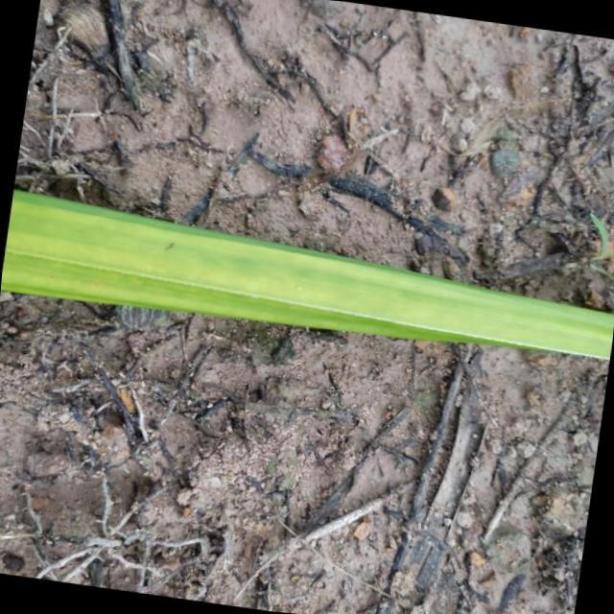nitrogen: (0, 179, 614, 361)
